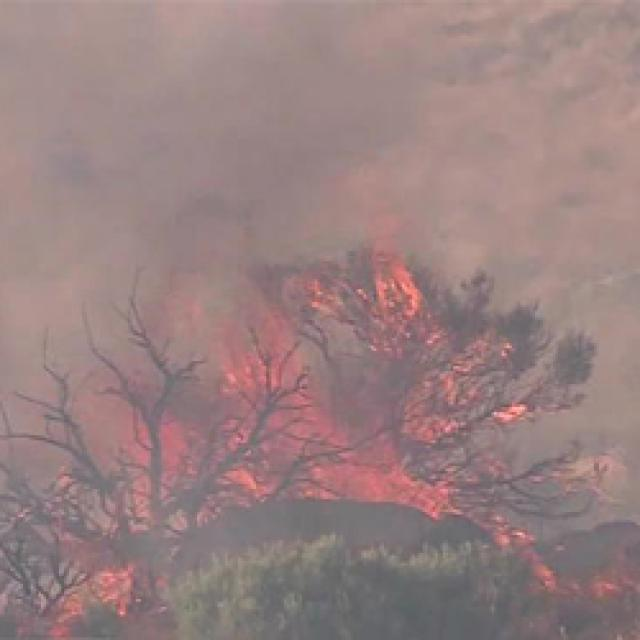Fire: (52, 368, 236, 511), (235, 393, 402, 514), (384, 322, 522, 444), (34, 539, 174, 640), (210, 306, 331, 408), (318, 238, 441, 338), (392, 456, 494, 533), (496, 518, 574, 582)
Smoke: (183, 42, 615, 206), (18, 44, 167, 328), (193, 532, 450, 630), (547, 226, 627, 364)
